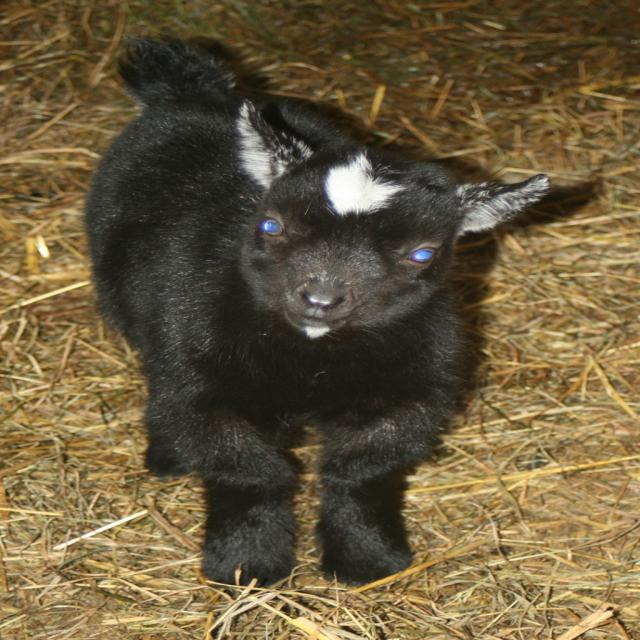Goat: (82, 36, 548, 590)
